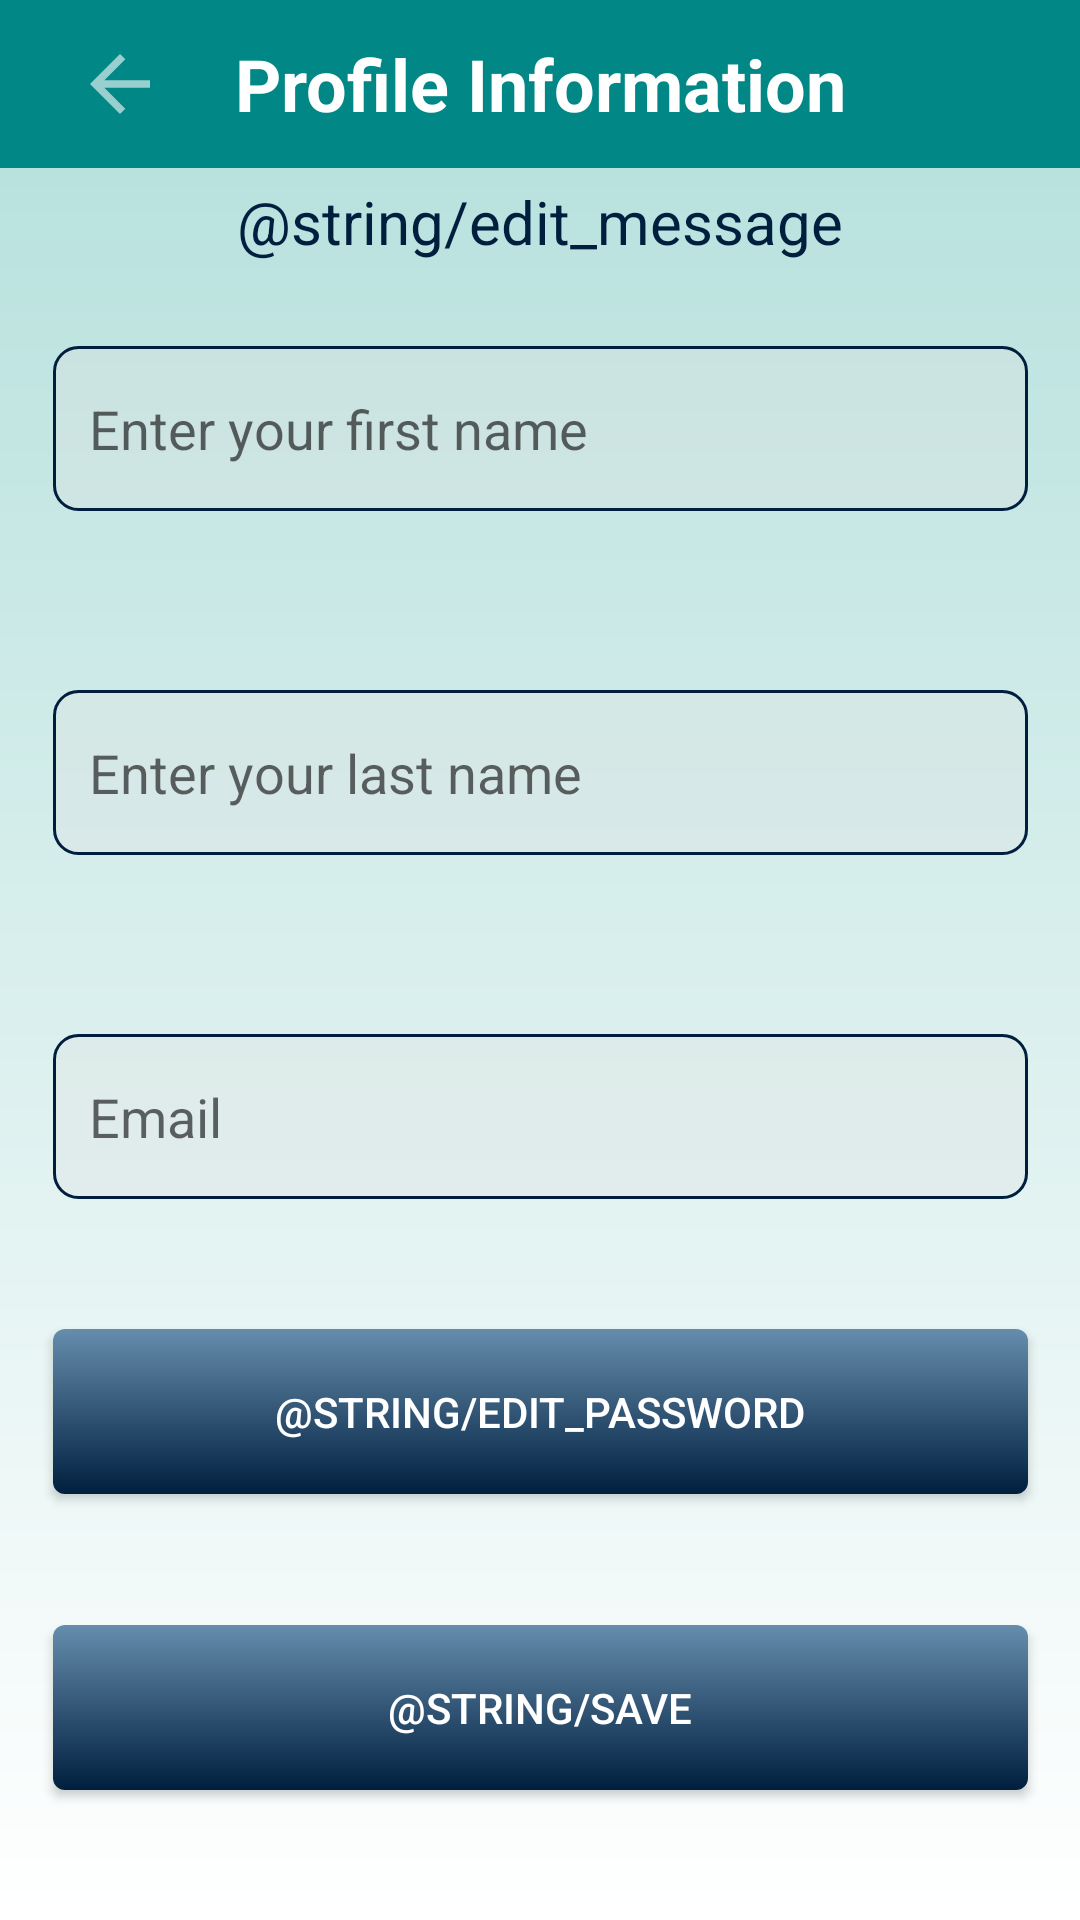

Screen size 1080*1920. Icon name, then its box in pixels as (x1, y1, x2, y2):
Back Button: (90, 54, 150, 114)
